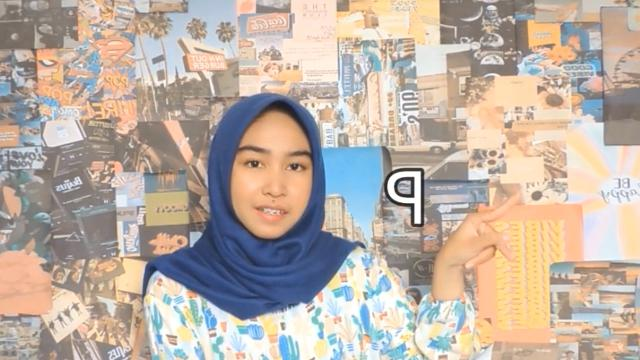P: (432, 190, 524, 272)
